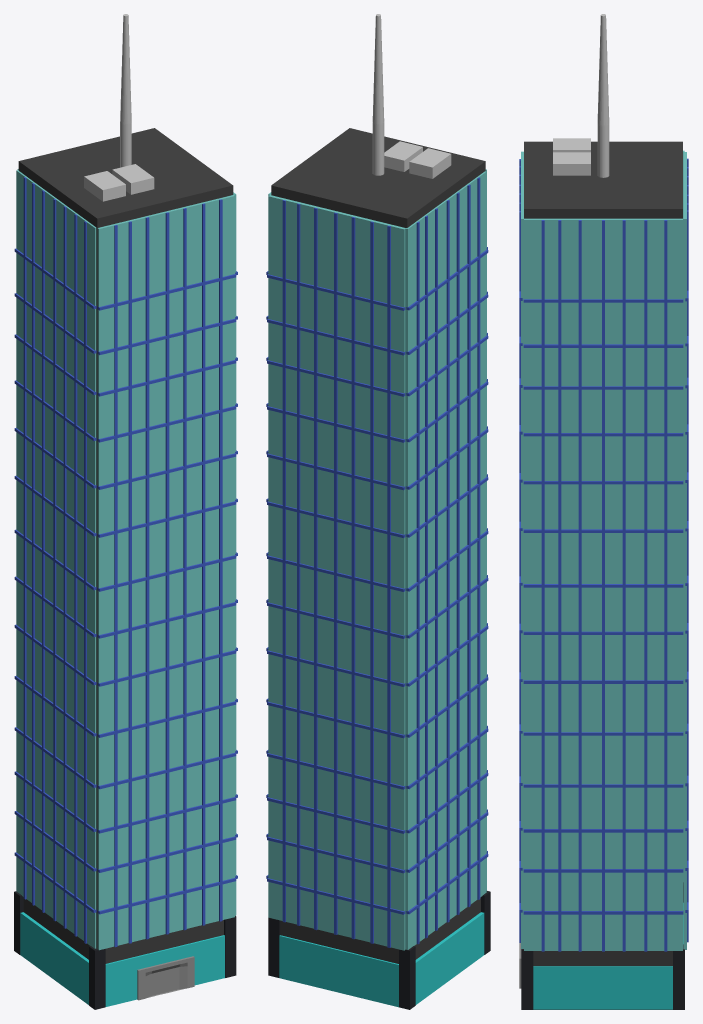
The model's file is Skyscraper-1.obj.
The picture shows the model from 3 angles, left to right: view 1: azimuth 30°, elevation 25°; view 2: azimuth 150°, elevation 25°; view 3: azimuth 270°, elevation 25°; orthographic projection.
Parts seen in each view (by area): view 1: Cube.001; view 2: Cube.001; view 3: Cube.001.
Part boxes in pixels (bbox=[...]): Cube.001: bbox=[14, 14, 237, 1009]; Cube.001: bbox=[266, 14, 490, 1009]; Cube.001: bbox=[519, 14, 688, 1009].
Bounding box in the file's own units: 5.13 × 32.26 × 5.16.
